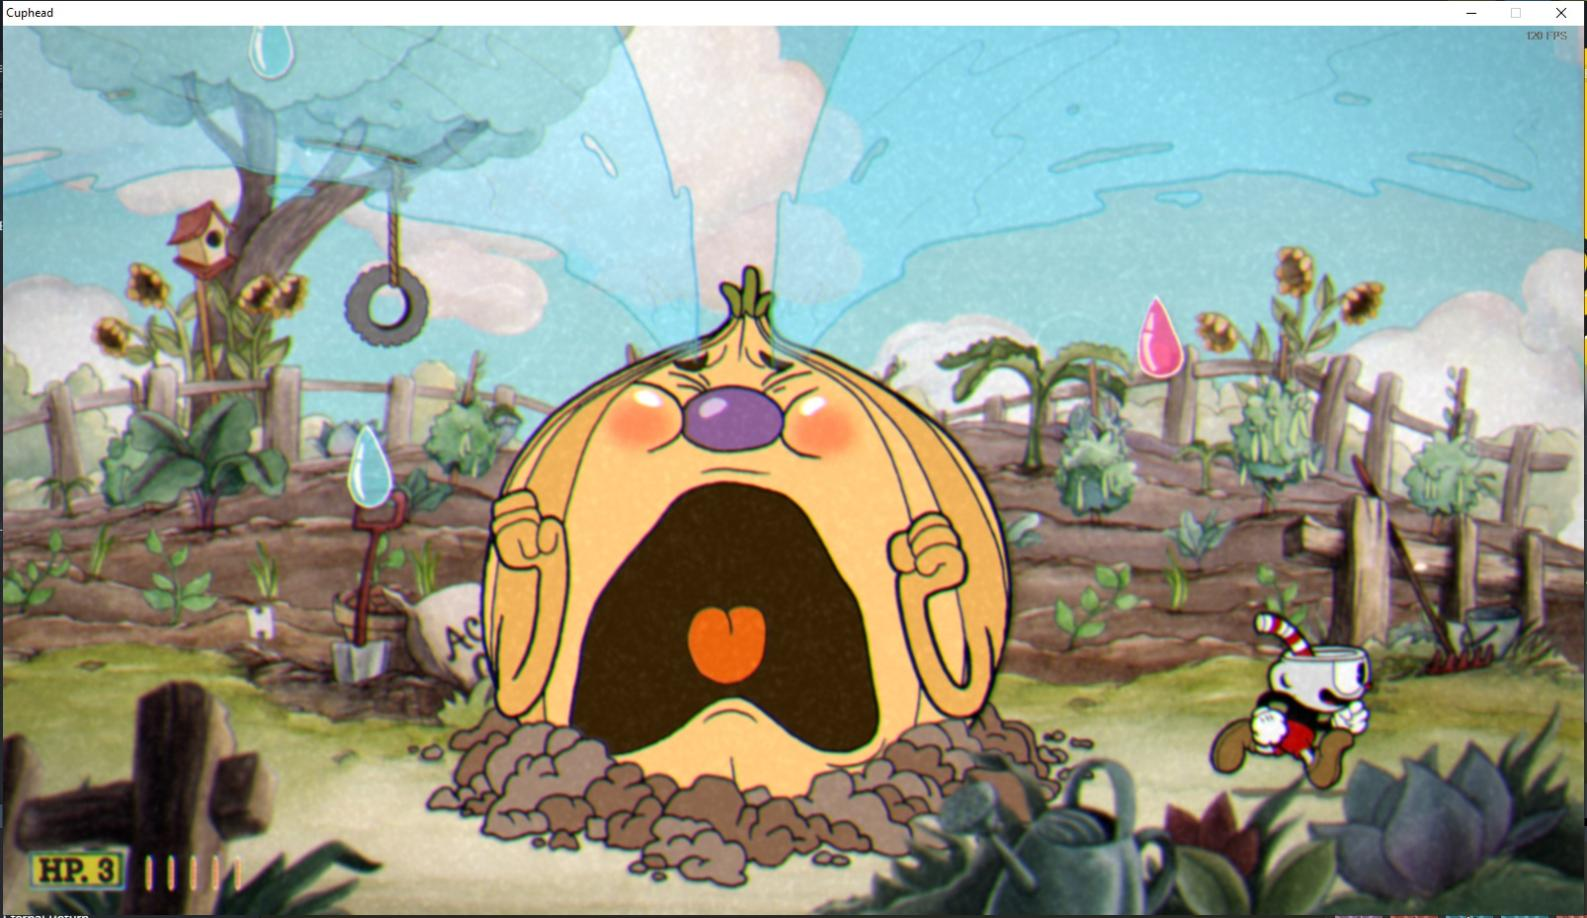hp3: (89, 852, 123, 890)
onion_boss: (477, 263, 1018, 822)
pink_rain: (1131, 291, 1193, 385)
player: (1200, 604, 1378, 800)
rain: (340, 418, 400, 521), (242, 24, 300, 85)
